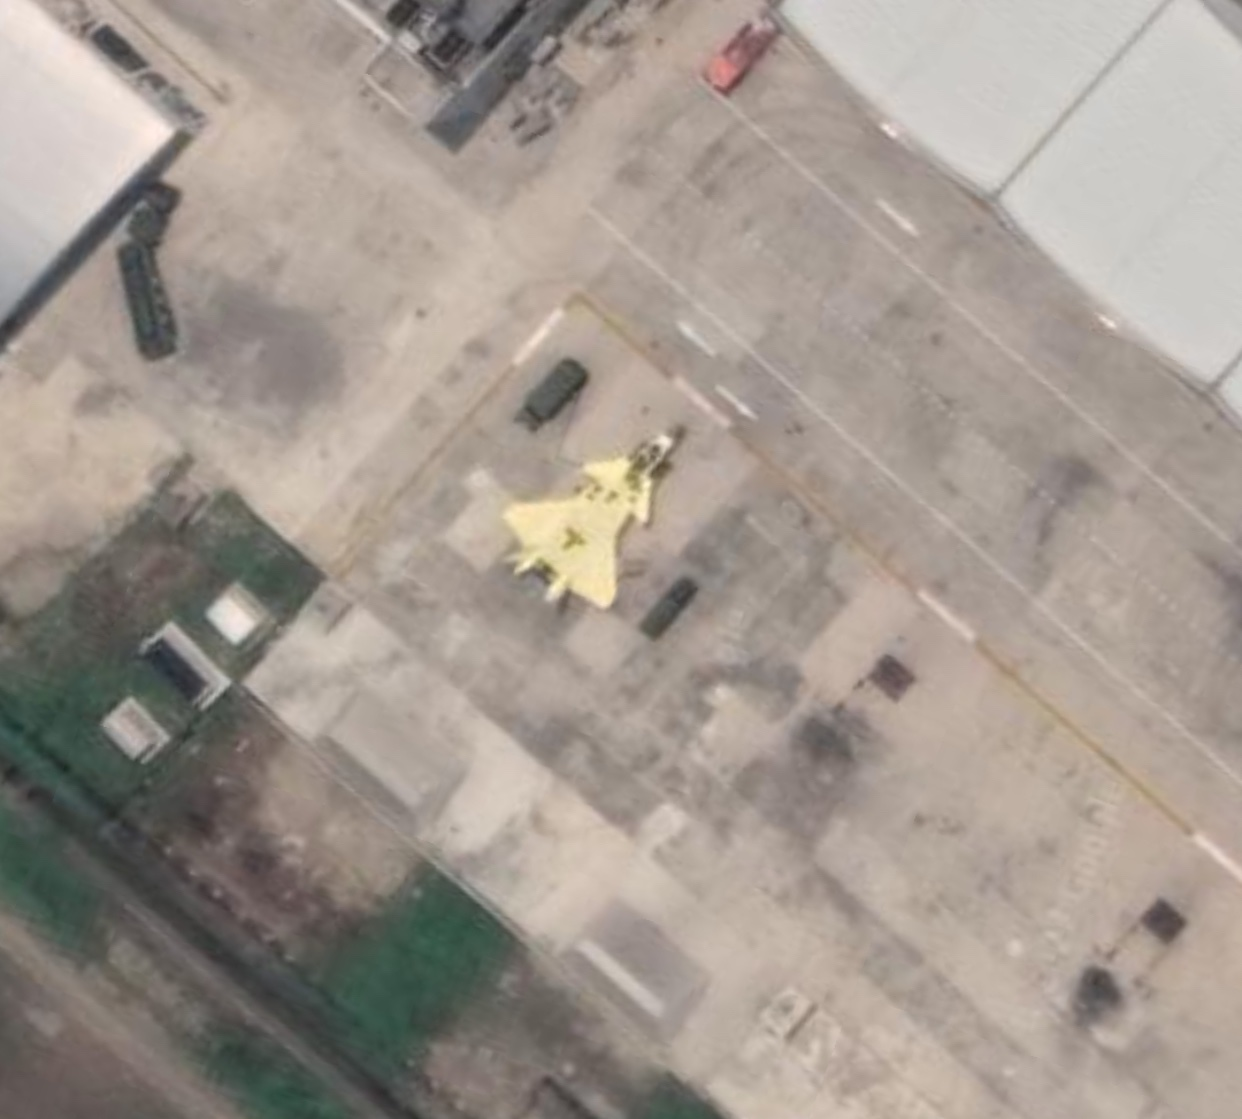J20: (500, 422, 687, 610)
